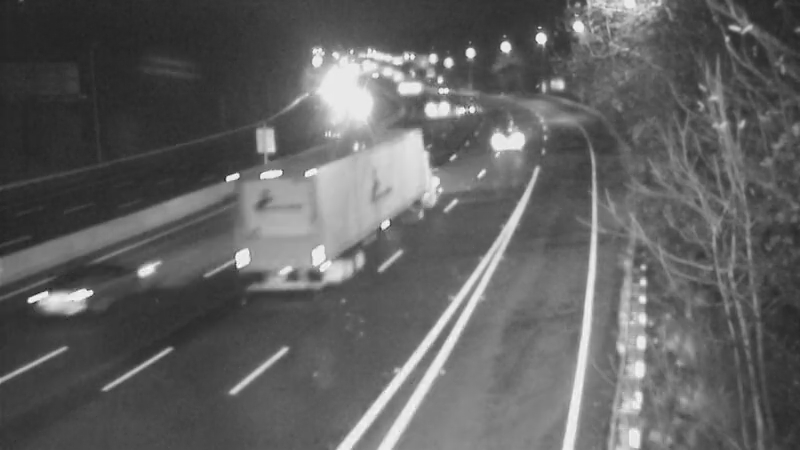vehicle: (231, 189, 311, 269), (24, 260, 104, 340), (375, 63, 425, 113), (414, 63, 464, 113), (436, 83, 486, 133), (407, 86, 457, 136), (473, 112, 523, 162), (326, 81, 376, 131)
